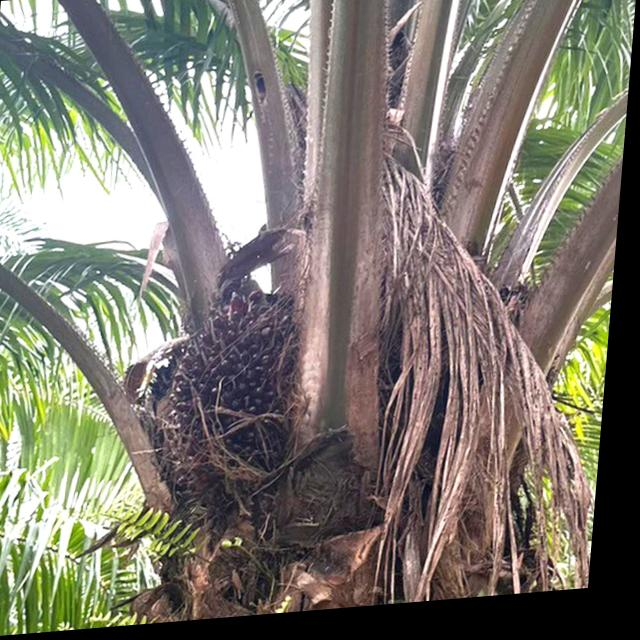ripe: (141, 271, 320, 488)
